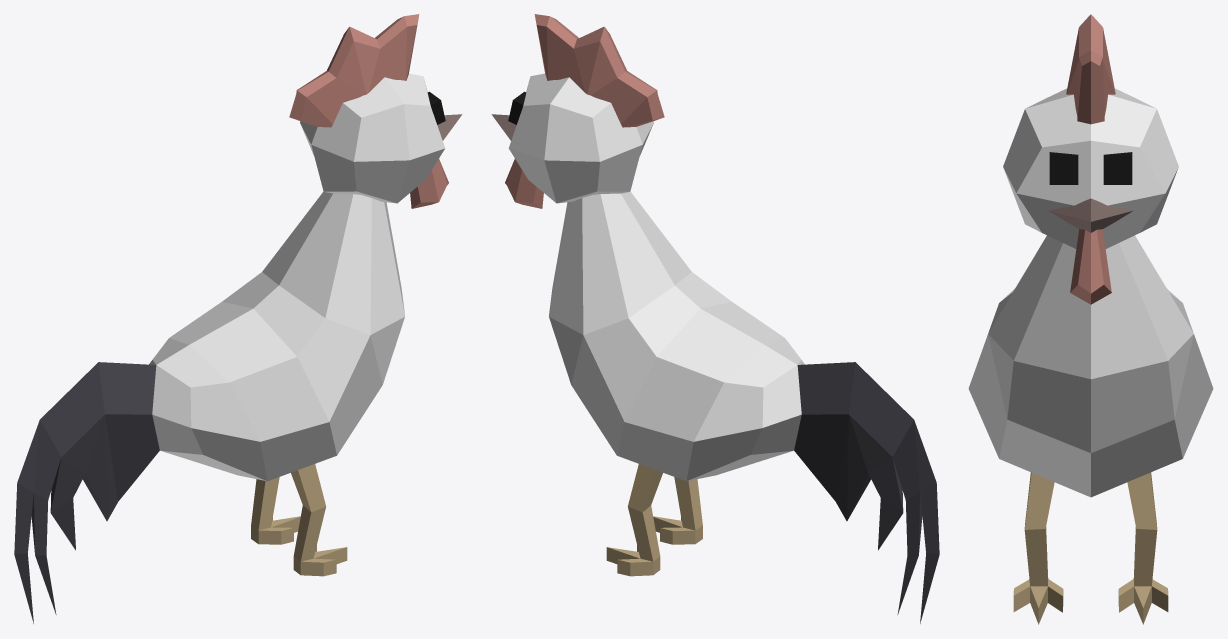
The model's file is rooster.glb.
3 renders of one model, left to right at view 1: azimuth 30°, elevation 25°; view 2: azimuth 150°, elevation 25°; view 3: azimuth 270°, elevation 25°, orthographic. The views are drawn at different scales.
Parts seen in each view (by area): view 1: body, rooster_feet; view 2: body, rooster_feet; view 3: body, rooster_feet.
Part boxes in pixels (x1,y1,x2,y2): body: [14, 14, 462, 623]; rooster_feet: [251, 464, 347, 576]; body: [491, 14, 939, 623]; rooster_feet: [606, 464, 702, 576]; body: [968, 14, 1213, 497]; rooster_feet: [1013, 472, 1168, 624].
Size of the model in its own units: 0.4531 by 0.5036 by 0.1759.
1 material, 1 textured.
